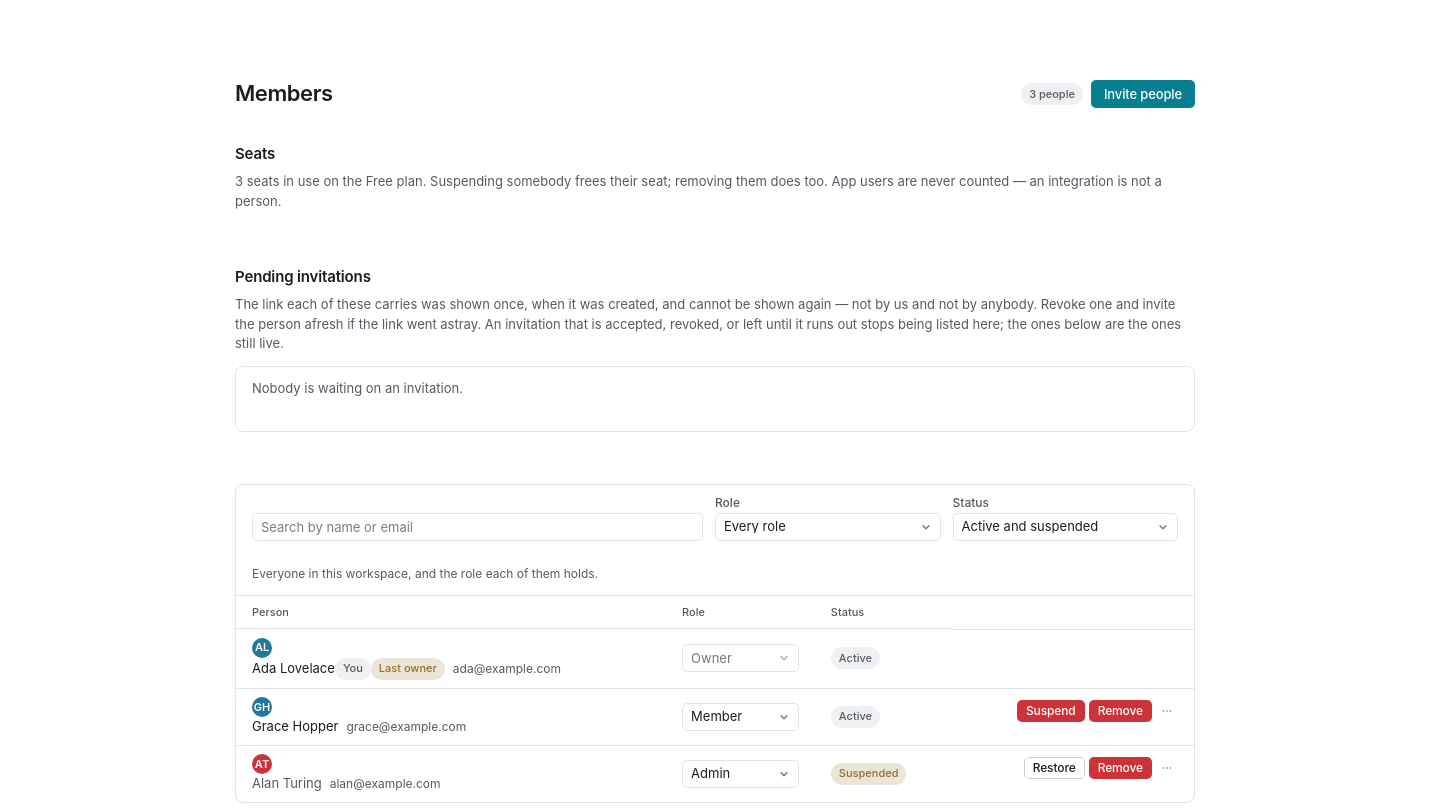
Test: the member row menu › asks before it suspends, and sends nothing until it is answered
Click the button named "Options for Grace Hopper": [1167, 710] box [1156,700,1178,722]
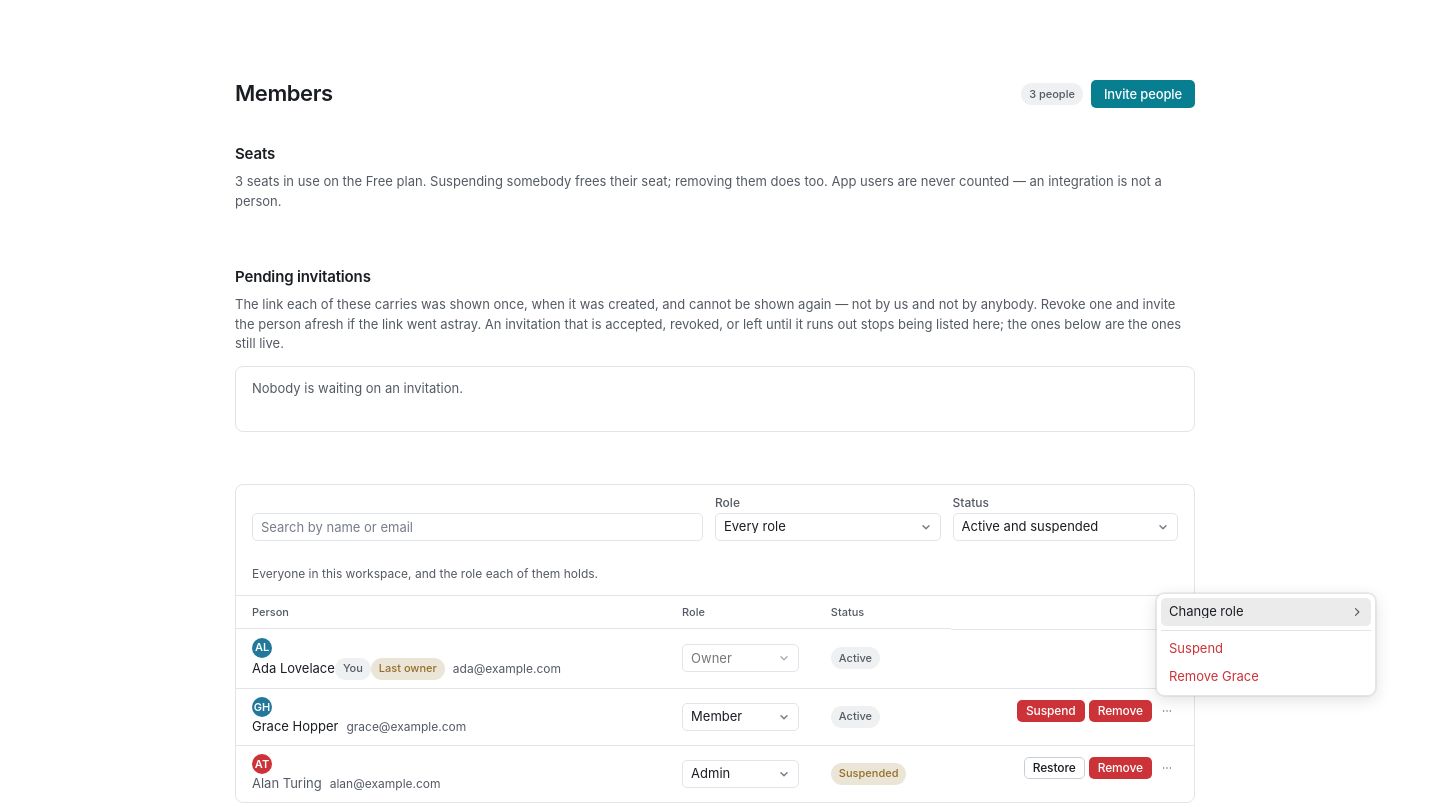
Click the menu item "Suspend": [1196, 648] box [1169,640,1223,656]
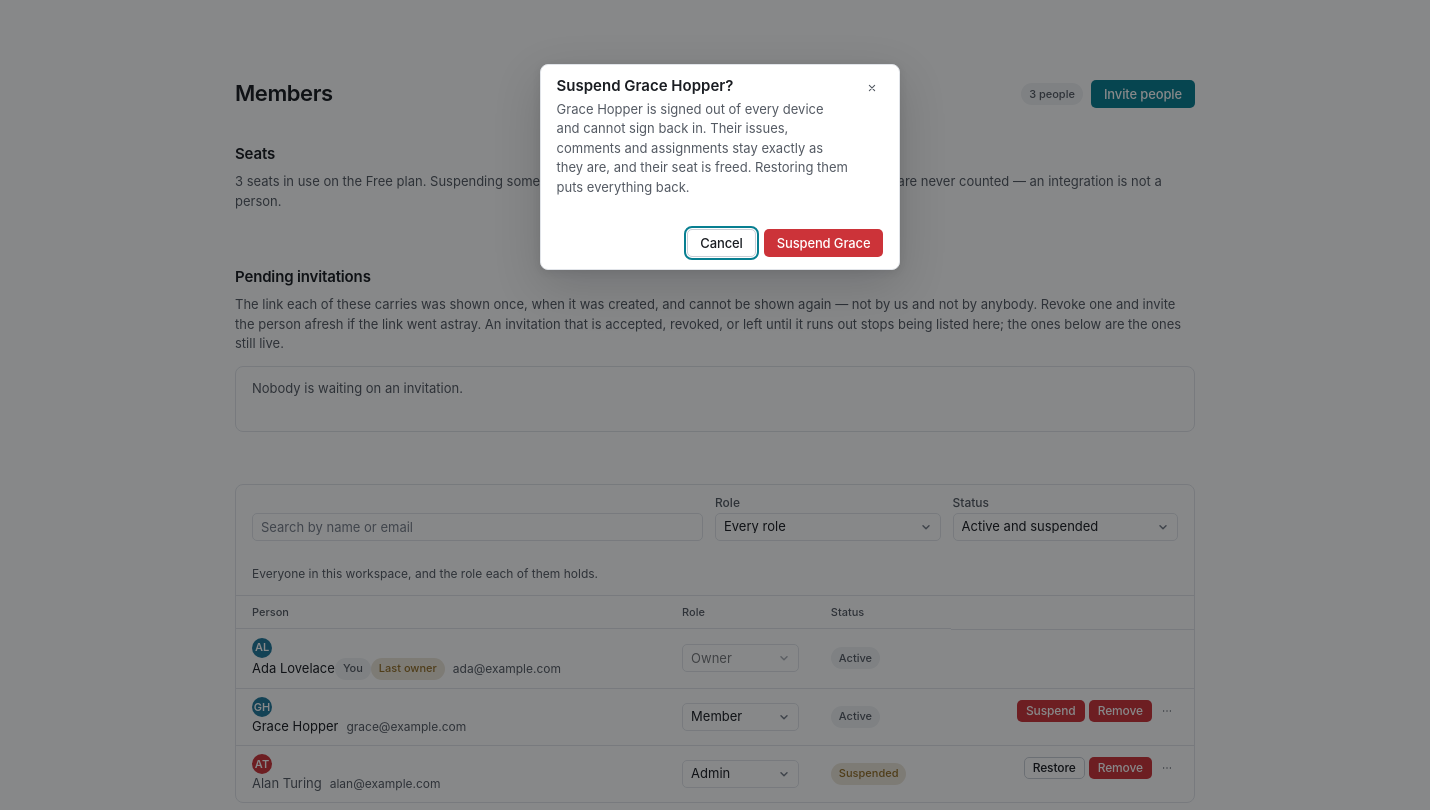
Now the dialog shows "Grace Hopper", box [557,76,733,95]
Now the dialog shows "signed out of every device", box [557,101,848,195]
